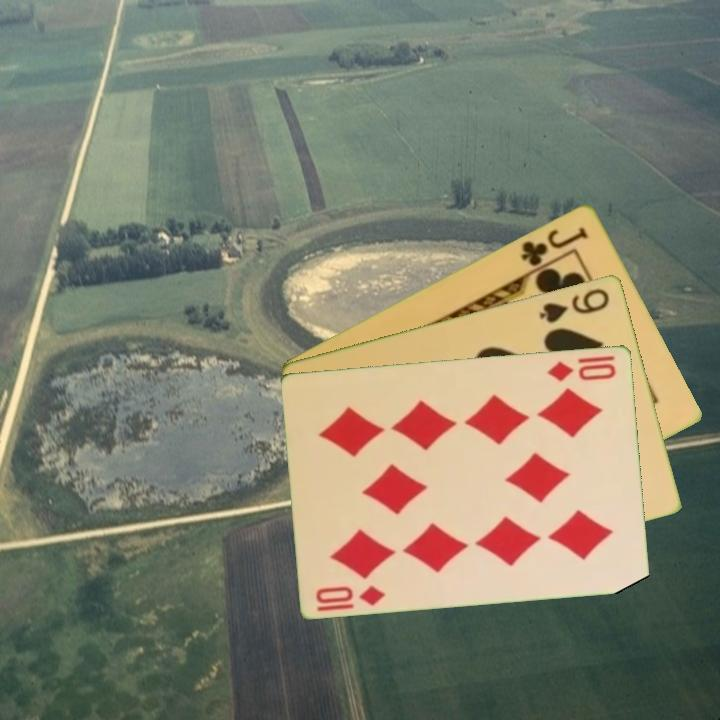10d: (313, 581, 388, 614), (544, 357, 619, 384)
9s: (536, 284, 613, 326)
Jc: (517, 222, 591, 269)
